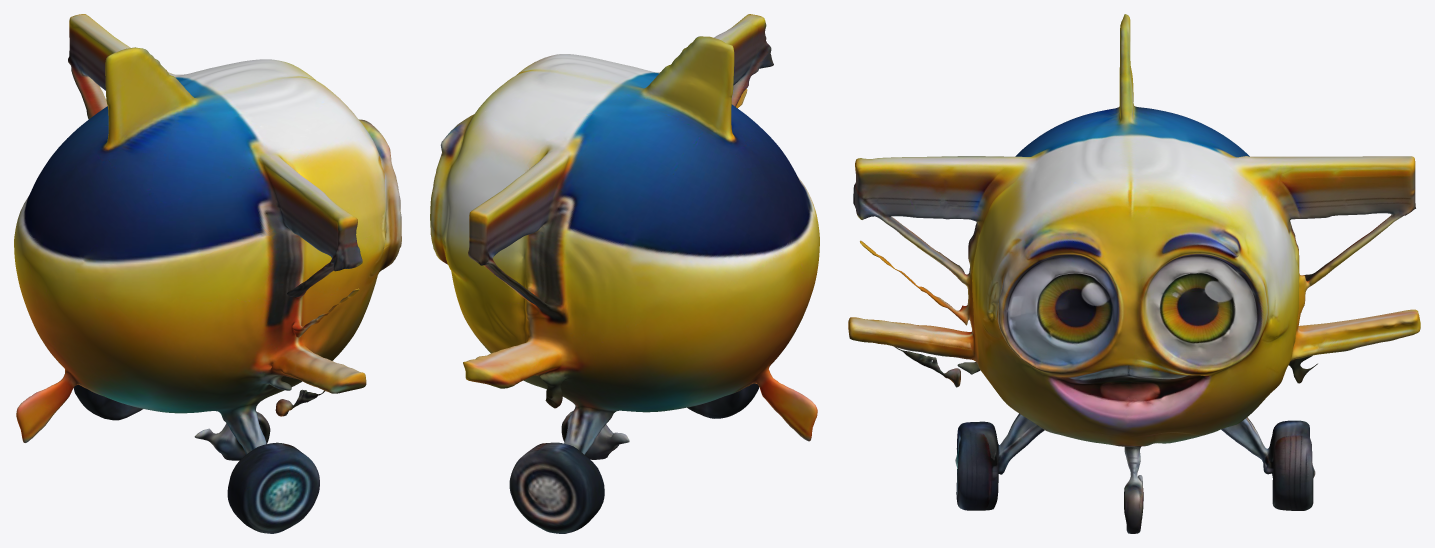
The model's file is 5ecc0b0a-f398-41a9-9e04-8ef5cb192f09.glb.
The picture shows the model from 3 angles, left to right: view 1: azimuth 30°, elevation 25°; view 2: azimuth 150°, elevation 25°; view 3: azimuth 270°, elevation 25°; orthographic projection.
Parts seen in each view (by area): view 1: tripo_node_5ecc0b0a-f398-41a9-9e04-8ef5cb192f09; view 2: tripo_node_5ecc0b0a-f398-41a9-9e04-8ef5cb192f09; view 3: tripo_node_5ecc0b0a-f398-41a9-9e04-8ef5cb192f09.
Boxes of the visible parts, box(x1,y1,x2,y2) form: tripo_node_5ecc0b0a-f398-41a9-9e04-8ef5cb192f09: box(14, 14, 401, 533); tripo_node_5ecc0b0a-f398-41a9-9e04-8ef5cb192f09: box(430, 14, 819, 533); tripo_node_5ecc0b0a-f398-41a9-9e04-8ef5cb192f09: box(848, 14, 1420, 533).
Size of the model in its own units: 0.493 by 0.6334 by 0.7289.
1 material, 1 textured.
